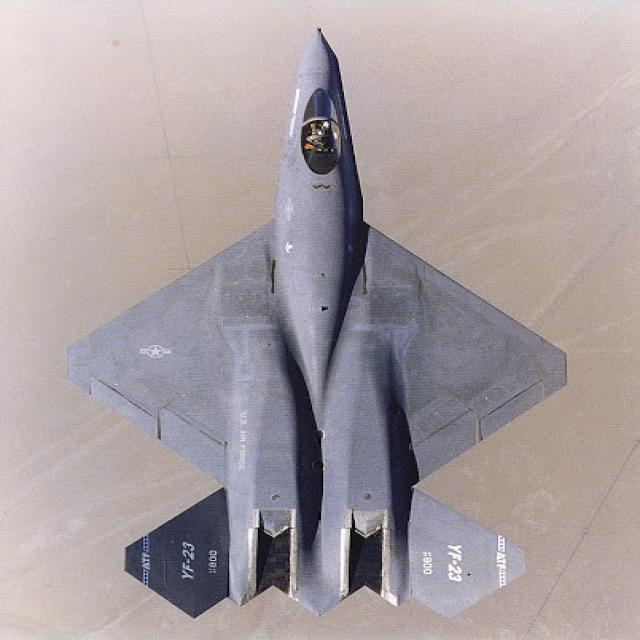MIL_Plane: (66, 25, 568, 620)
